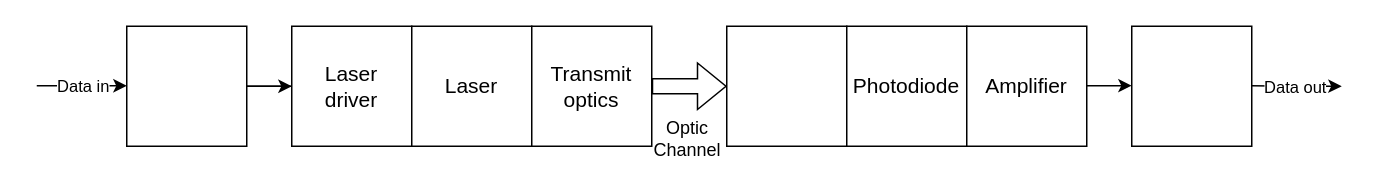
Some shapes in this 1380 by 188 pixel diagram are drawn without their labels. The centre of each missing label's shape, as x and y in pixels:
"Demodulator" goes at point 1191,85.
"Modulator" goes at point 186,85.
"Receive optics" goes at point 786,85.
